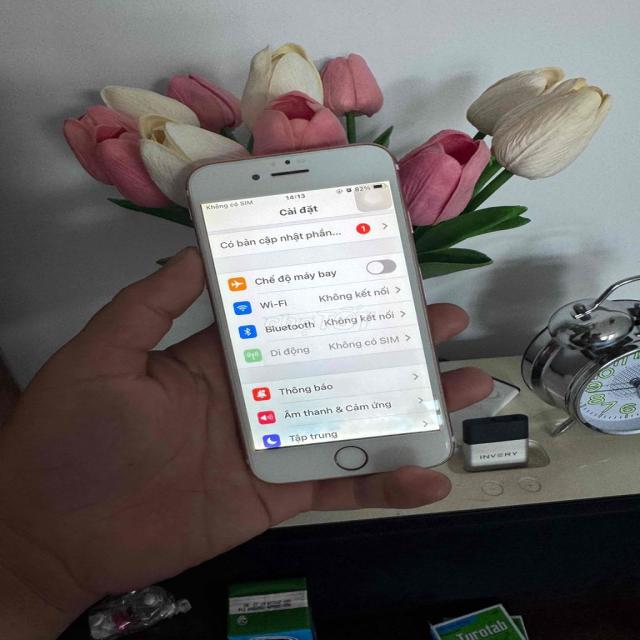gen_7_8: (180, 138, 476, 477)
